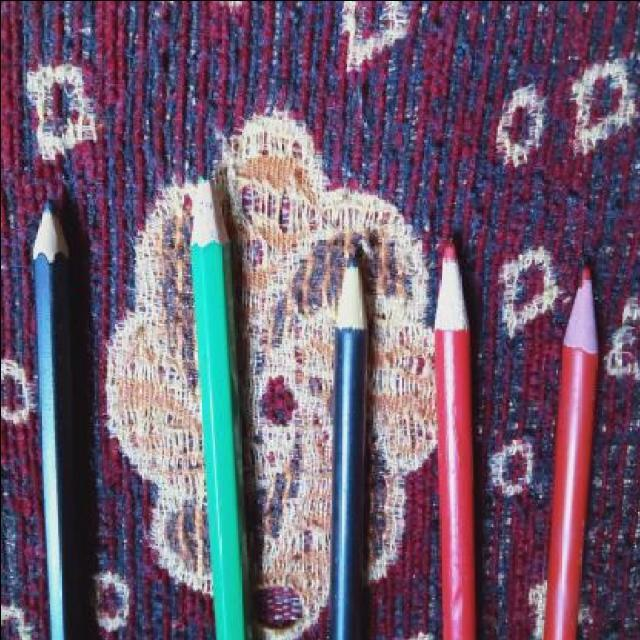Pencil: (430, 234, 476, 344), (556, 260, 604, 364), (187, 166, 236, 254), (330, 253, 372, 341), (29, 188, 71, 272)
